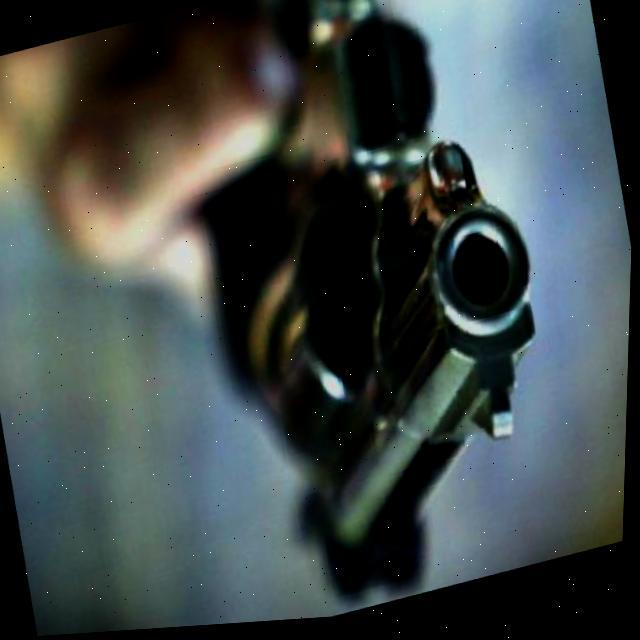gun: (160, 0, 597, 631)
